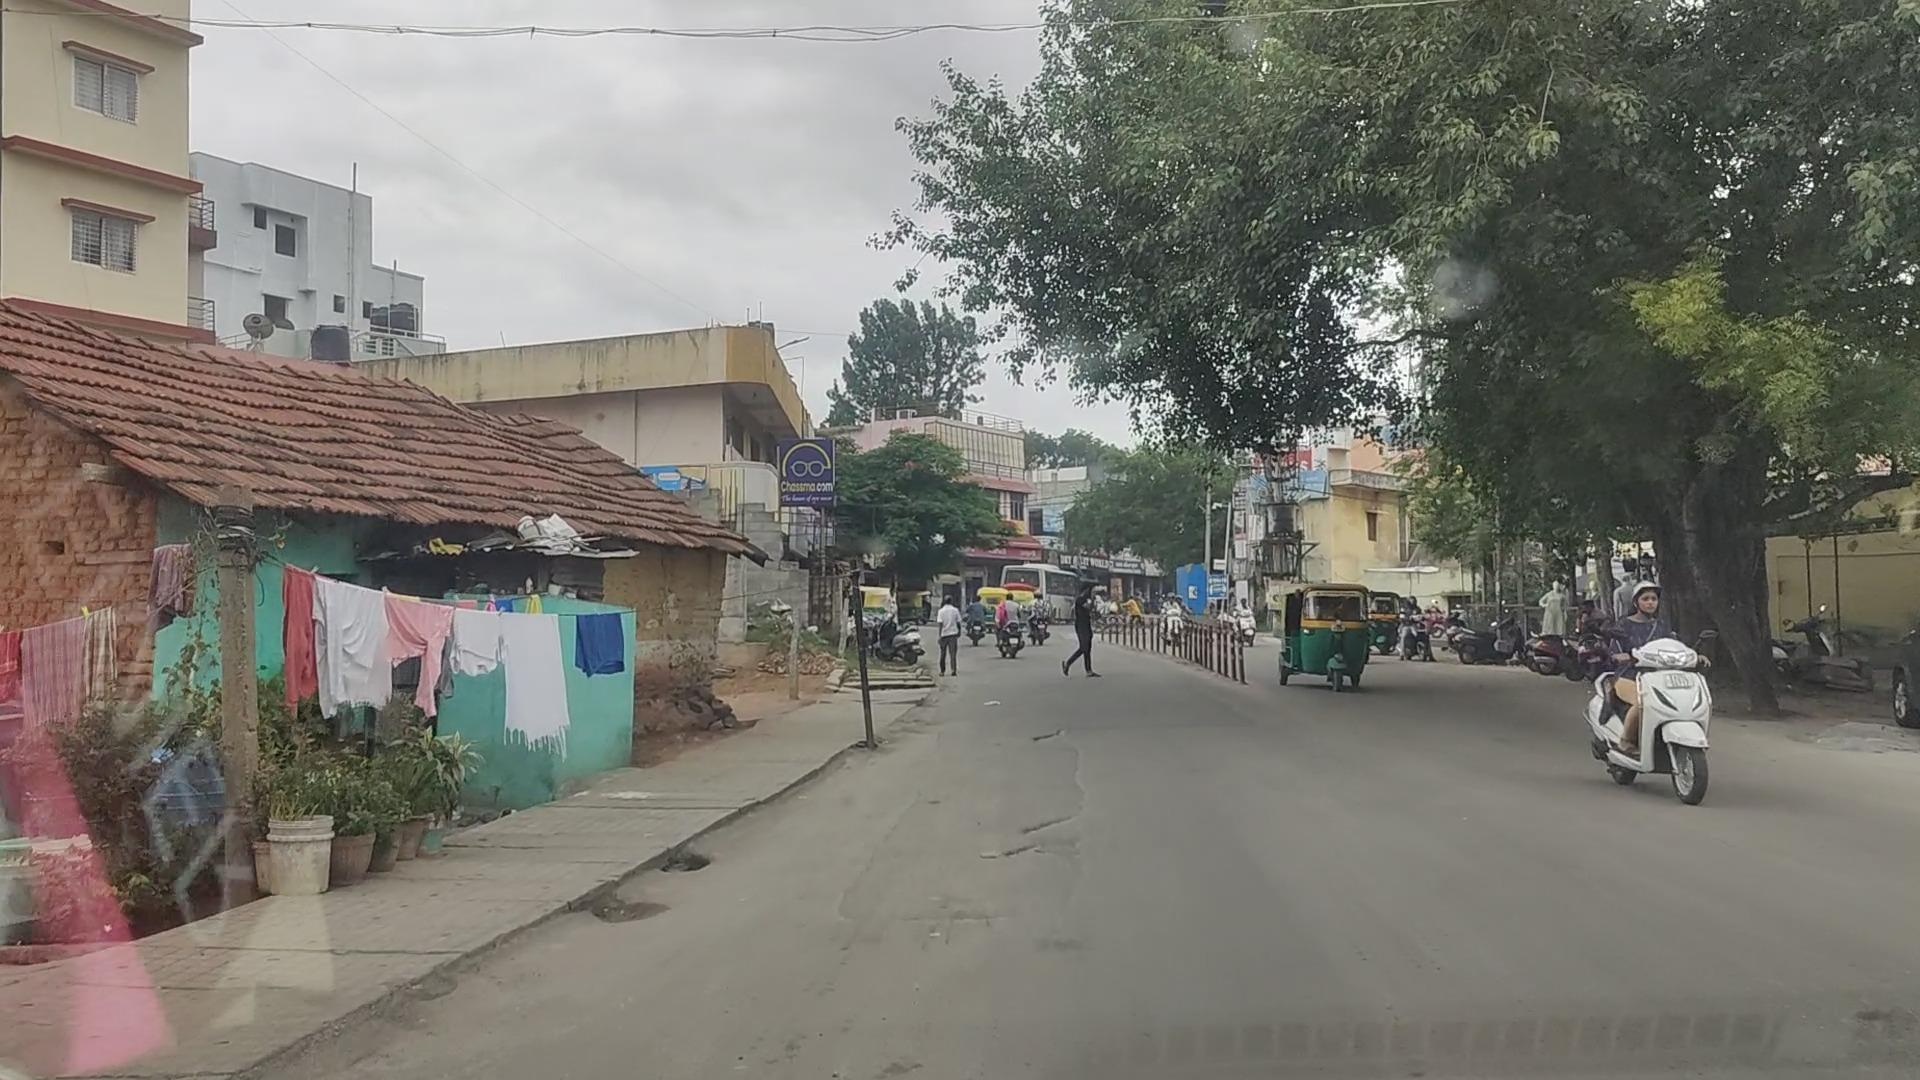RoadDamages: (808, 806, 910, 934), (973, 811, 1079, 870), (901, 909, 998, 952), (588, 890, 663, 934), (1026, 719, 1093, 764), (669, 847, 721, 880)
